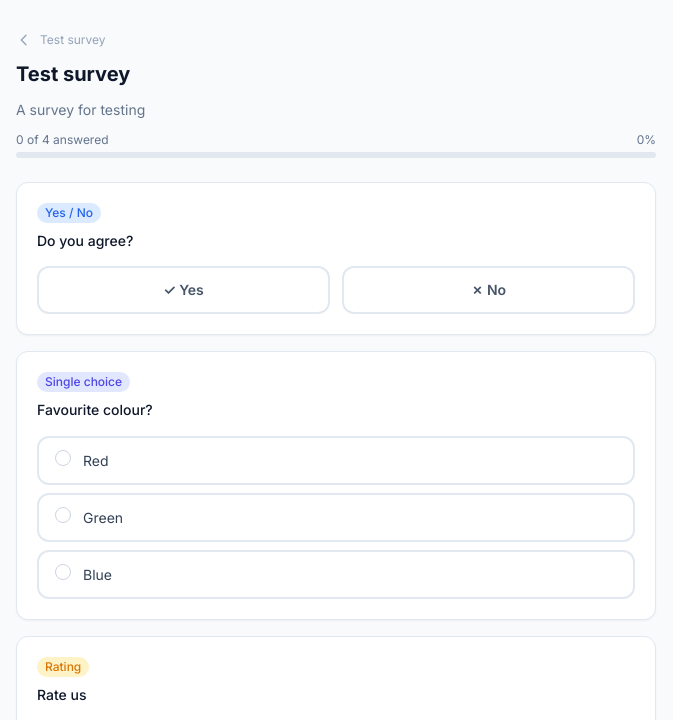
Test: FillPage — submit › shows success screen after submit
The image size is (673, 720).
Expected: the heading "Test survey" is shown, top-left (16, 62), bottom-right (130, 86)
Click the button "✗ No" at (488, 290), box top-left (342, 266), bottom-right (635, 314)
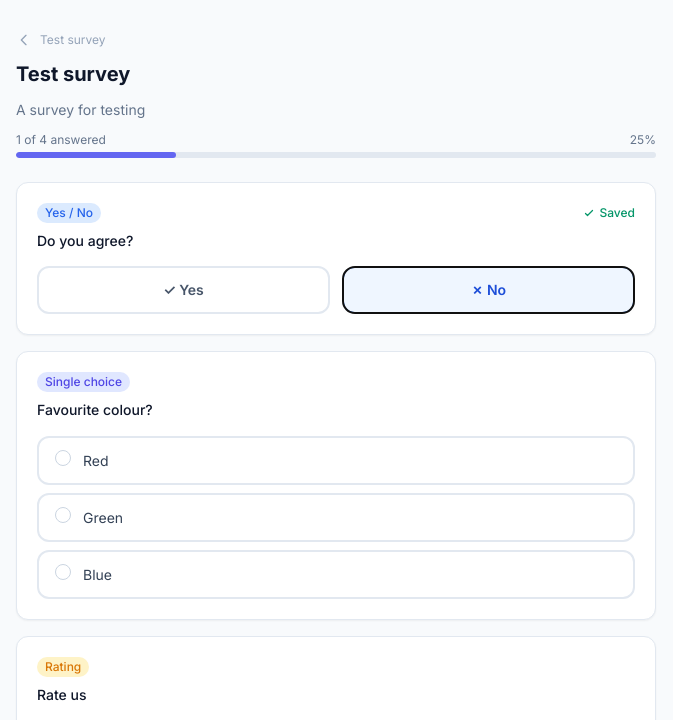
Click the button "Green" at (103, 517), box top-left (37, 492), bottom-right (635, 542)
(page scrolled)
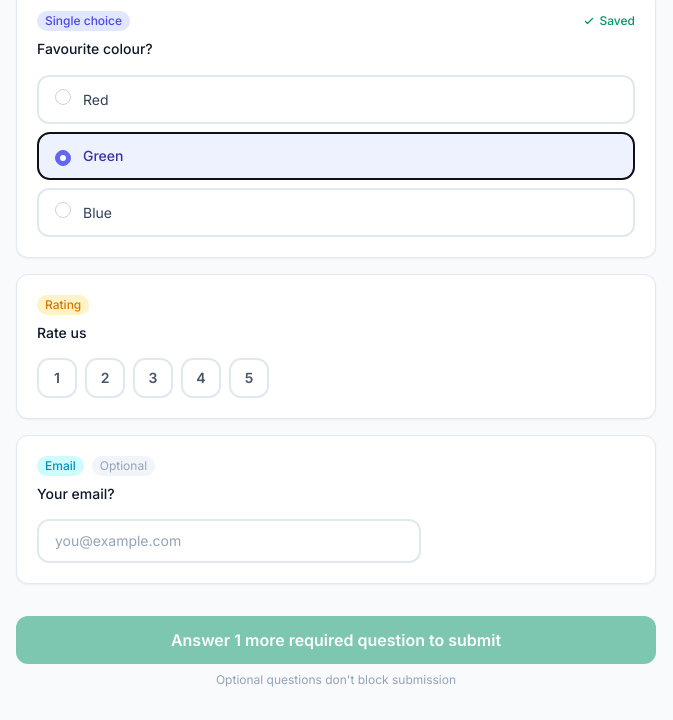
Click the button "5" at (249, 378), box top-left (229, 358), bottom-right (269, 398)
(page scrolled)
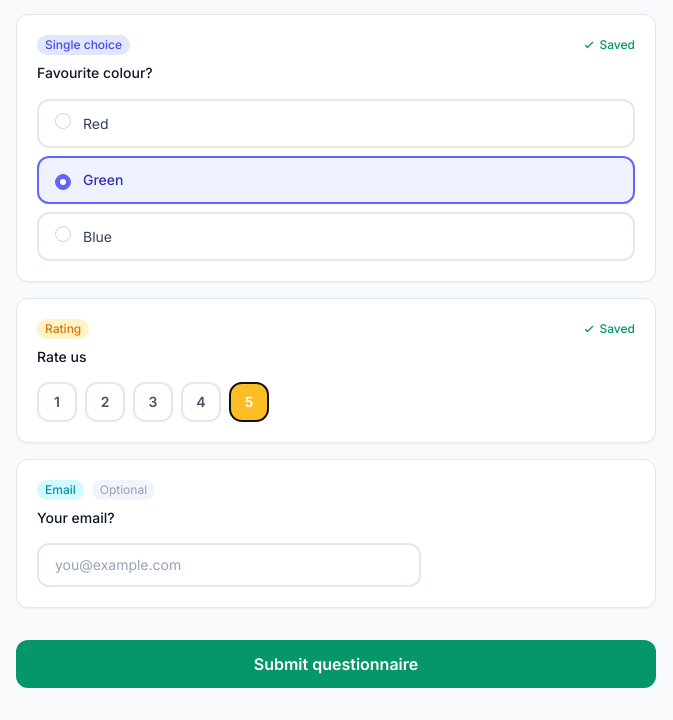
Click the button "Submit questionnaire" at (336, 664), box top-left (16, 640), bottom-right (656, 688)
(page scrolled)
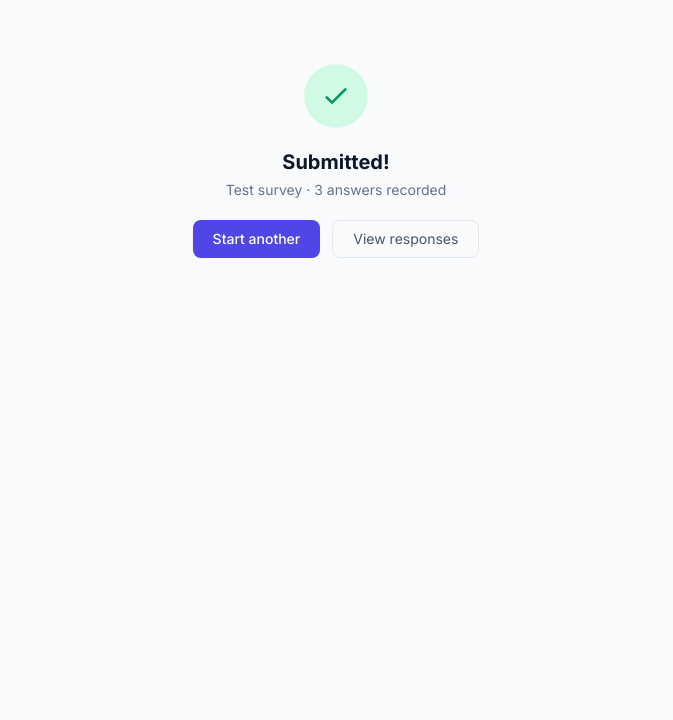
Expected: the heading "Submitted!" is shown, top-left (282, 150), bottom-right (390, 174)
